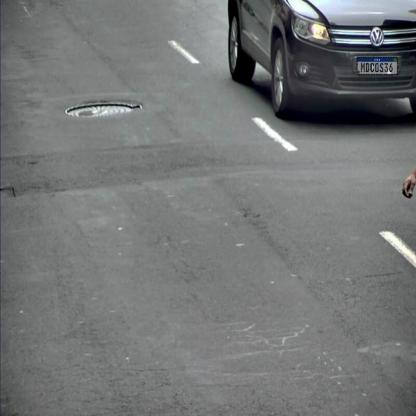PlacaM: (357, 57, 398, 75)
